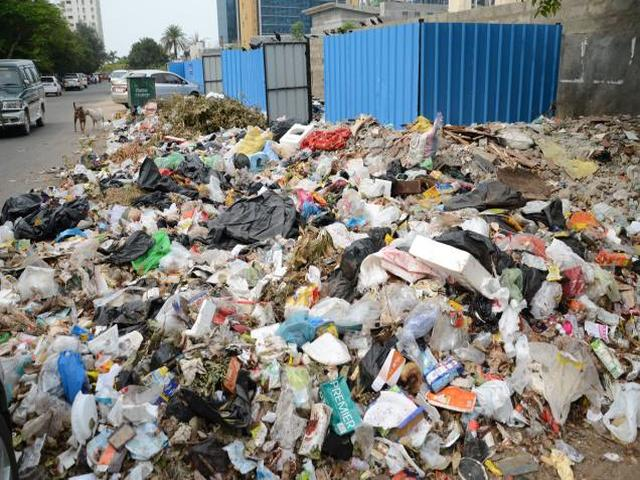garbage: (56, 199, 629, 462), (116, 131, 616, 215)
